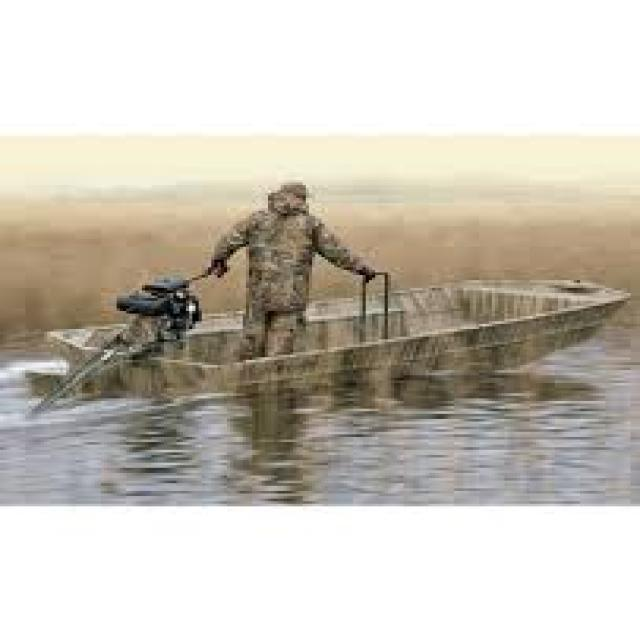ship2: (47, 184, 632, 405)
